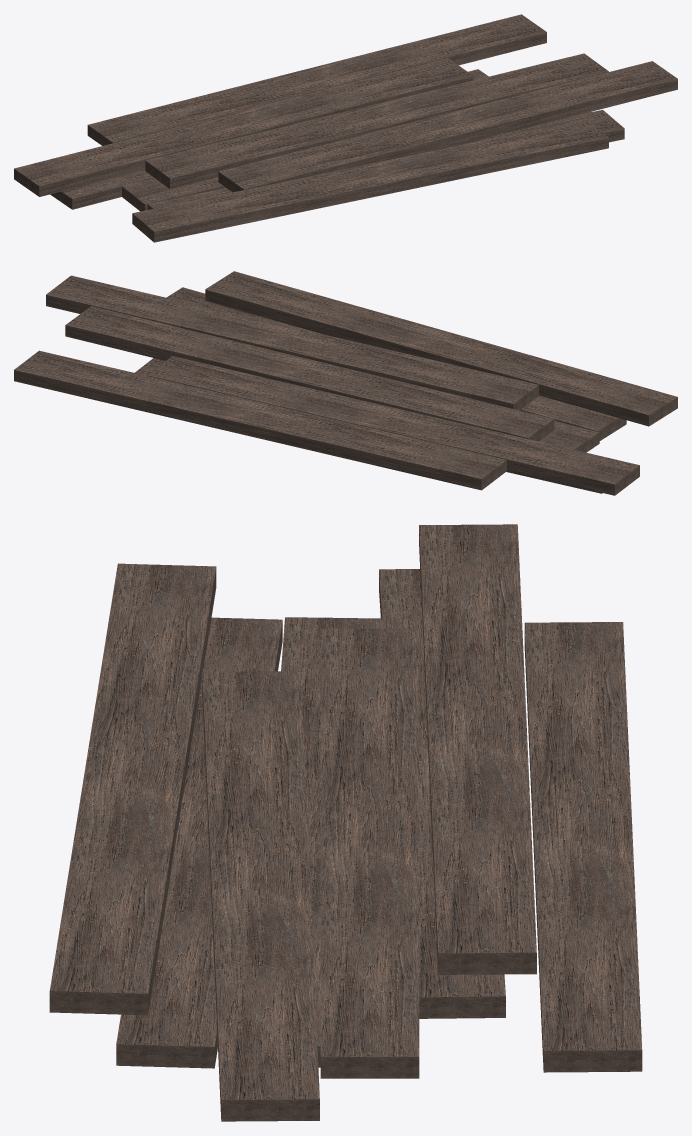
The model's file is WoodPlanks.obj.
The picture shows the model from 3 angles, top to bottom: view 1: azimuth 30°, elevation 25°; view 2: azimuth 150°, elevation 25°; view 3: azimuth 270°, elevation 25°; orthographic projection. The views are drawn at different scales.
Visible parts, largest first — view 1: pCube9; view 2: pCube9; view 3: pCube9.
Part boxes in pixels (x1,y1,x2,y2): pCube9: [14, 14, 677, 242]; pCube9: [14, 271, 677, 495]; pCube9: [49, 524, 642, 1121].
Size of the model in its own units: 13.81 by 0.4853 by 6.01.
